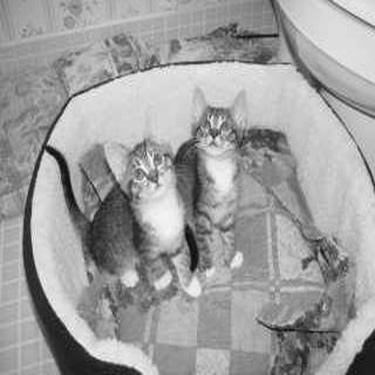cat: (41, 141, 203, 300), (178, 83, 247, 281)
